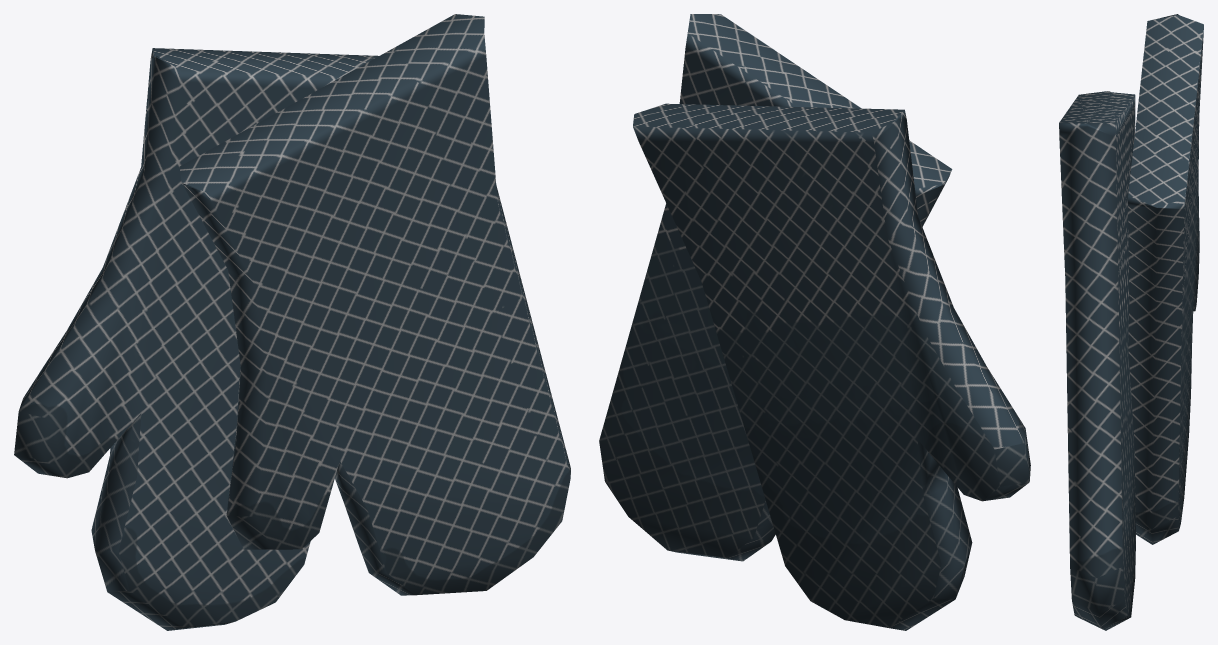
The model's file is Mitts_exp.fbx.
The picture shows the model from 3 angles, left to right: view 1: azimuth 30°, elevation 25°; view 2: azimuth 150°, elevation 25°; view 3: azimuth 270°, elevation 25°; orthographic projection. The views are drawn at different scales.
Parts seen in each view (by area): view 1: pCube1, pCube2; view 2: pCube2, pCube1; view 3: pCube1, pCube2.
Part boxes in pixels (<box>): pCube1: <box>179,14,570,595</box>; pCube2: <box>14,48,378,630</box>; pCube2: <box>633,103,1030,630</box>; pCube1: <box>599,14,952,561</box>; pCube1: <box>1059,91,1135,630</box>; pCube2: <box>1128,14,1203,544</box>.
Size of the model in its own units: 1.06 by 1.15 by 0.2977.
Materials: 1 (1 with a texture image).
